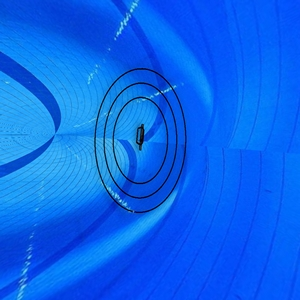circle: (94, 66, 188, 217)
submarine: (133, 122, 149, 155)
